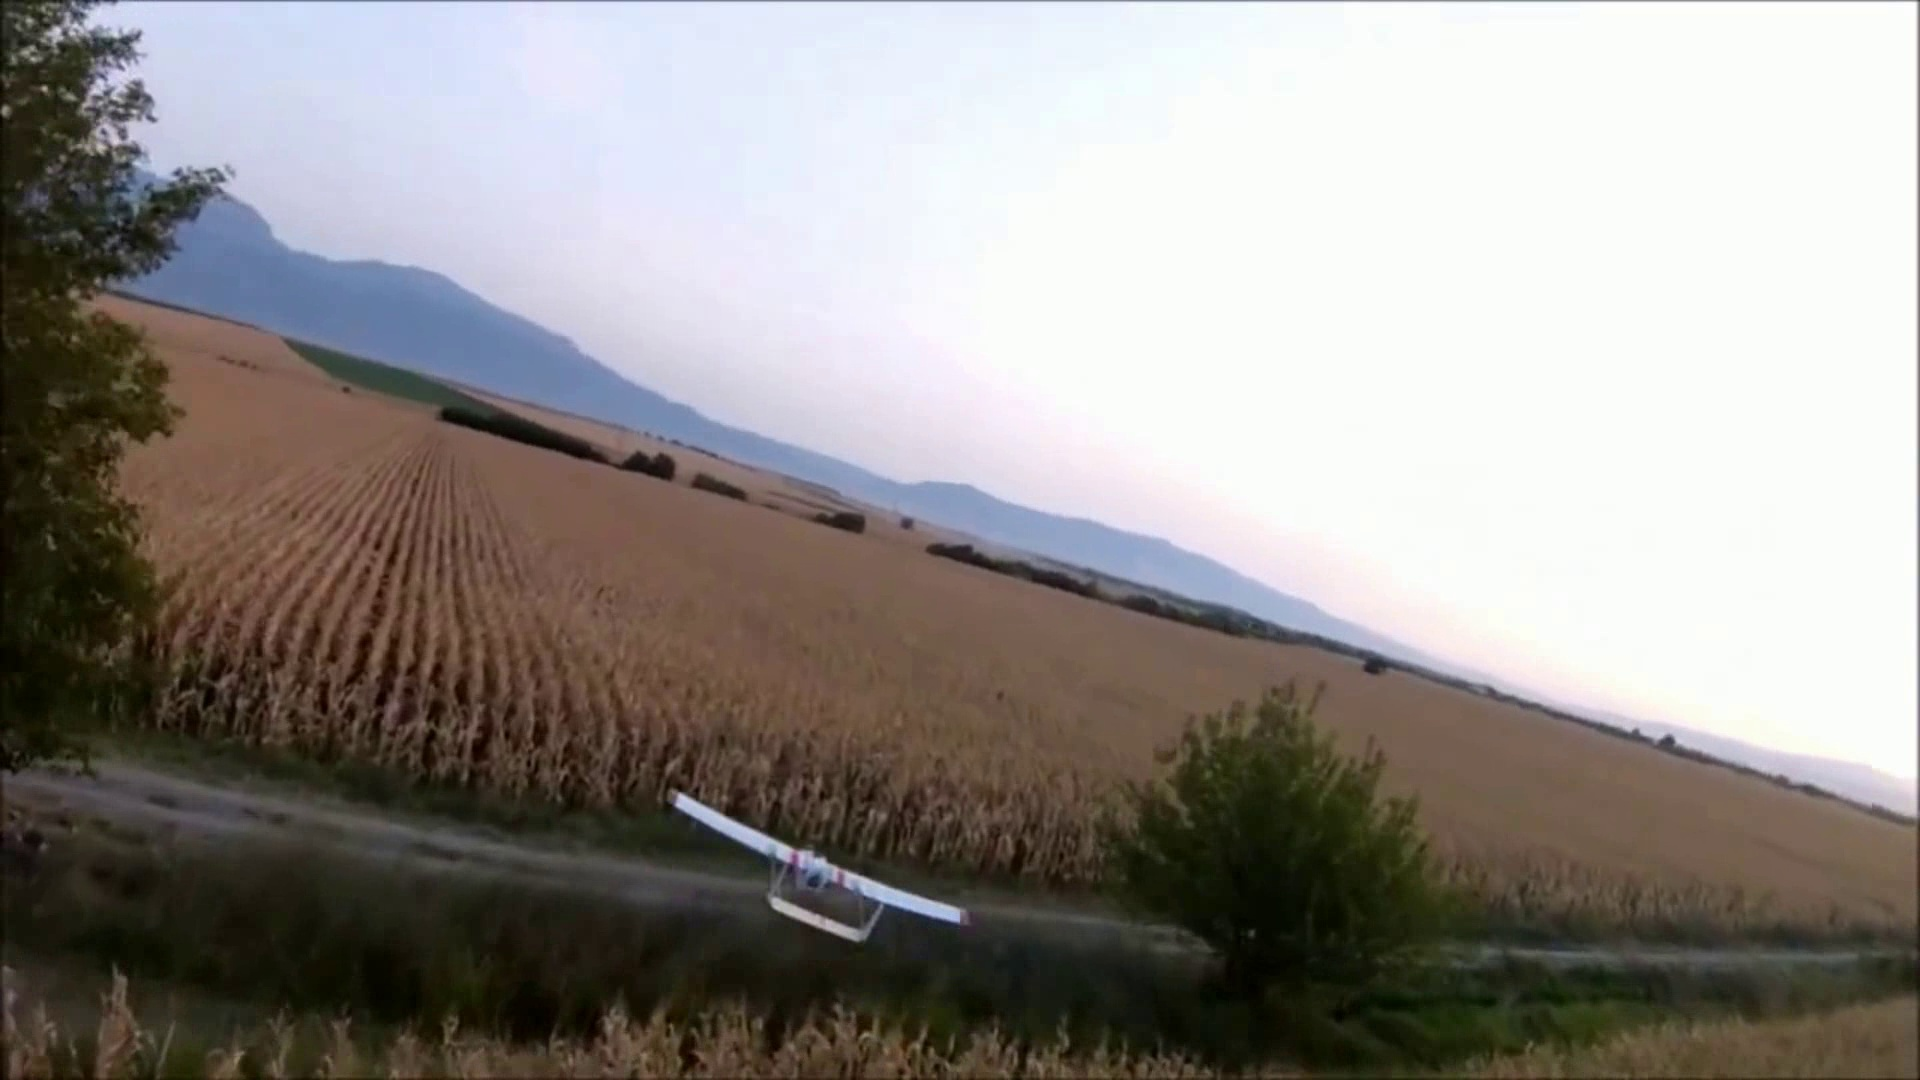airplane: (669, 789, 971, 945)
